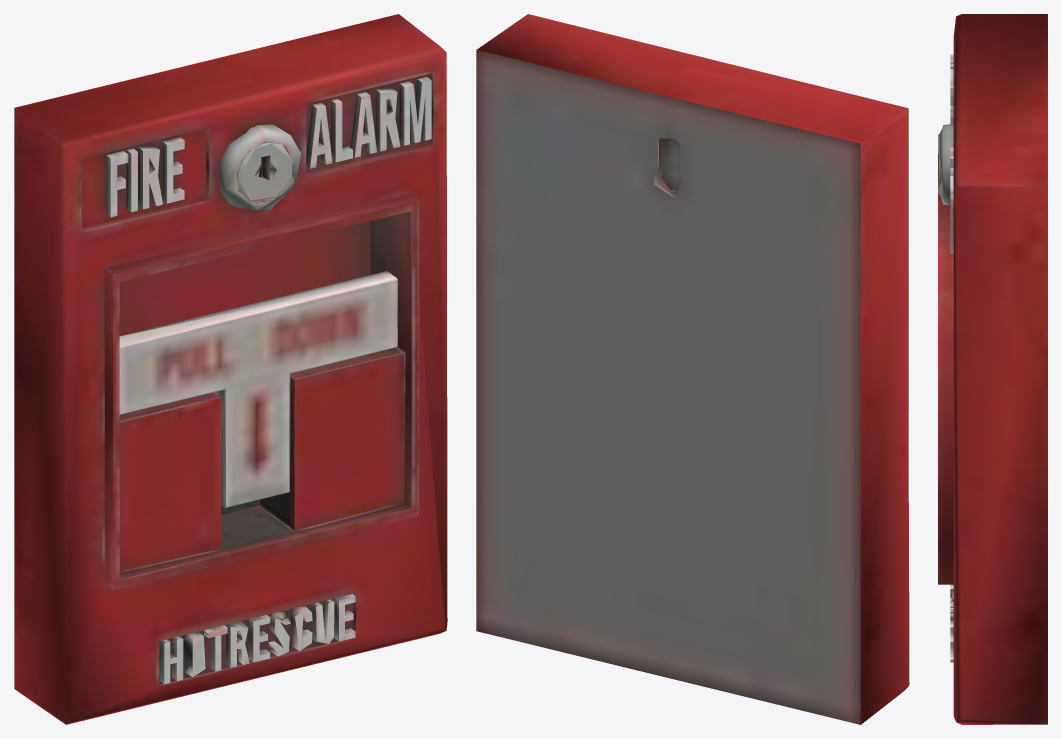
Rendered from firealarm.glb.
The picture shows the model from 3 angles, left to right: view 1: azimuth 30°, elevation 25°; view 2: azimuth 150°, elevation 25°; view 3: azimuth 270°, elevation 25°; orthographic projection. The views are drawn at different scales.
Parts seen in each view (by area): view 1: fire_alarm, fire_alarm_lever; view 2: fire_alarm; view 3: fire_alarm.
Part boxes in pixels (x1,y1,x2,y2): fire_alarm: (14,14,447,724); fire_alarm_lever: (119,271,397,508); fire_alarm: (476,14,909,724); fire_alarm: (938,14,1047,724).
Size of the model in its own units: 0.0994 by 0.1436 by 0.0264.
1 material, 1 textured.
